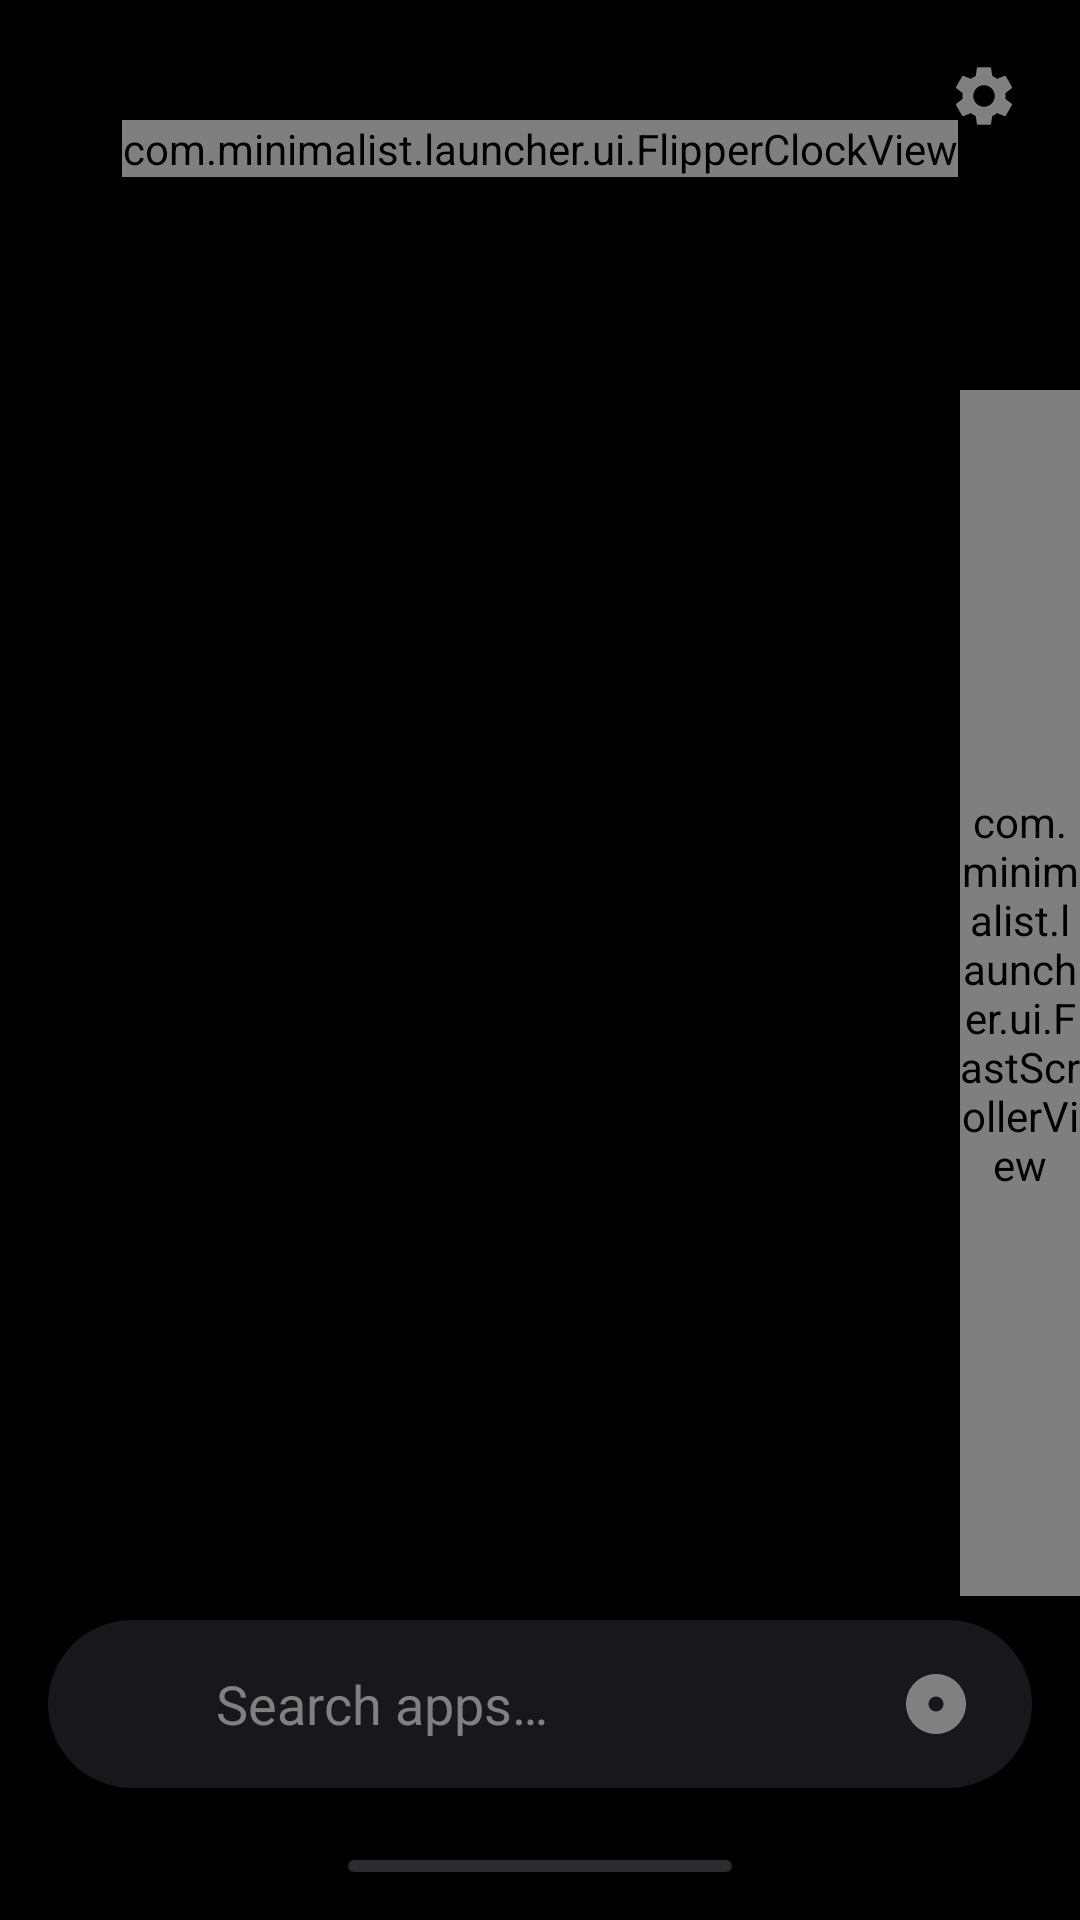

Named icons in this screenshot (1080w x 1920h) and their bounding boxes, (x1, y1, x2, y2):
Settings: (956, 67, 1012, 125)
